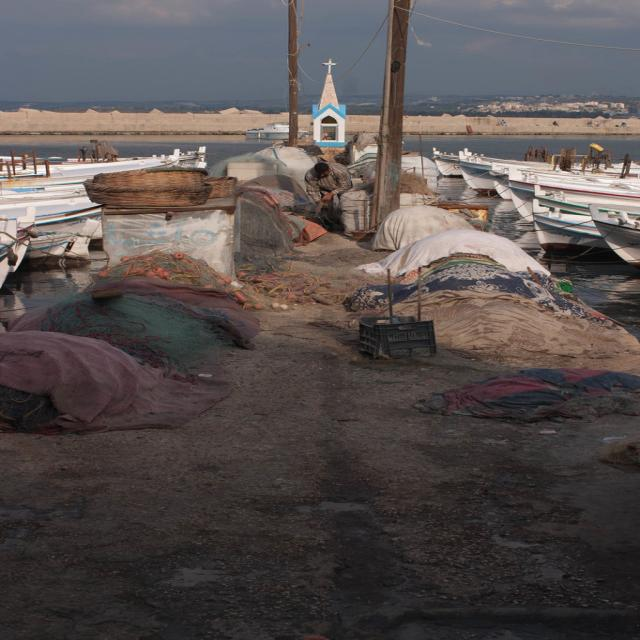Boat: (0, 145, 206, 284), (433, 145, 639, 241), (588, 203, 639, 265), (242, 120, 308, 142)
